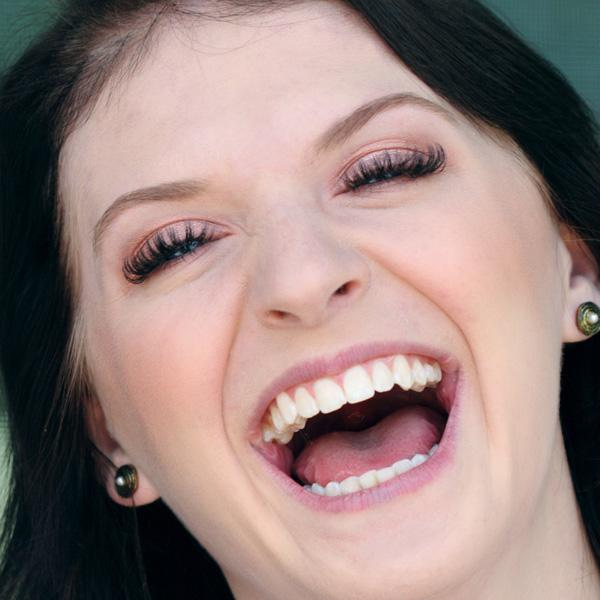Eyes: (120, 206, 242, 296), (326, 132, 456, 212)
